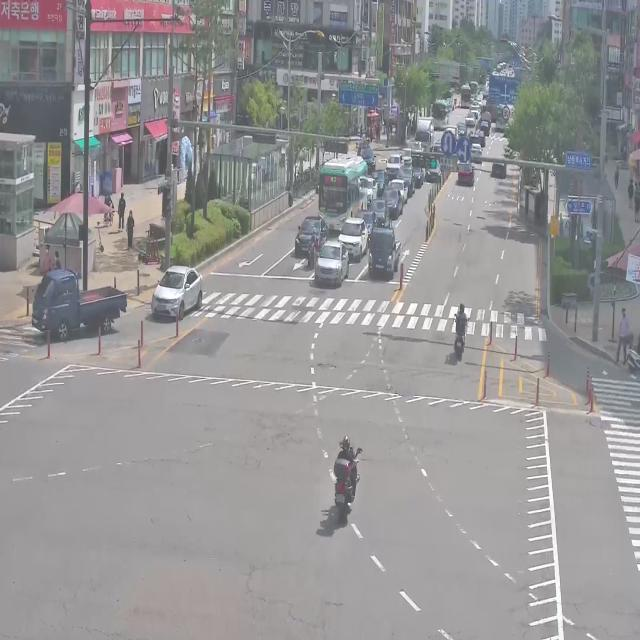Bus: (314, 142, 368, 231), (432, 95, 450, 132), (459, 82, 471, 110), (470, 78, 478, 98)
Car: (150, 264, 202, 321), (312, 240, 350, 286), (337, 212, 368, 265), (296, 208, 325, 252), (378, 178, 403, 221), (368, 196, 388, 228), (397, 164, 414, 198), (358, 144, 375, 172), (390, 177, 408, 203), (372, 168, 389, 194), (456, 164, 474, 188), (363, 174, 378, 202), (384, 151, 402, 173), (425, 160, 440, 183), (491, 157, 506, 180), (471, 142, 484, 168), (360, 205, 374, 229), (398, 146, 411, 167), (413, 163, 423, 189), (456, 118, 466, 140), (476, 126, 486, 147), (409, 141, 423, 156), (480, 118, 490, 136), (466, 110, 474, 128), (469, 134, 478, 147)
Motorcycle: (332, 434, 364, 530), (453, 302, 471, 362)
Truck: (31, 268, 127, 342), (368, 224, 402, 280), (414, 114, 435, 149)
